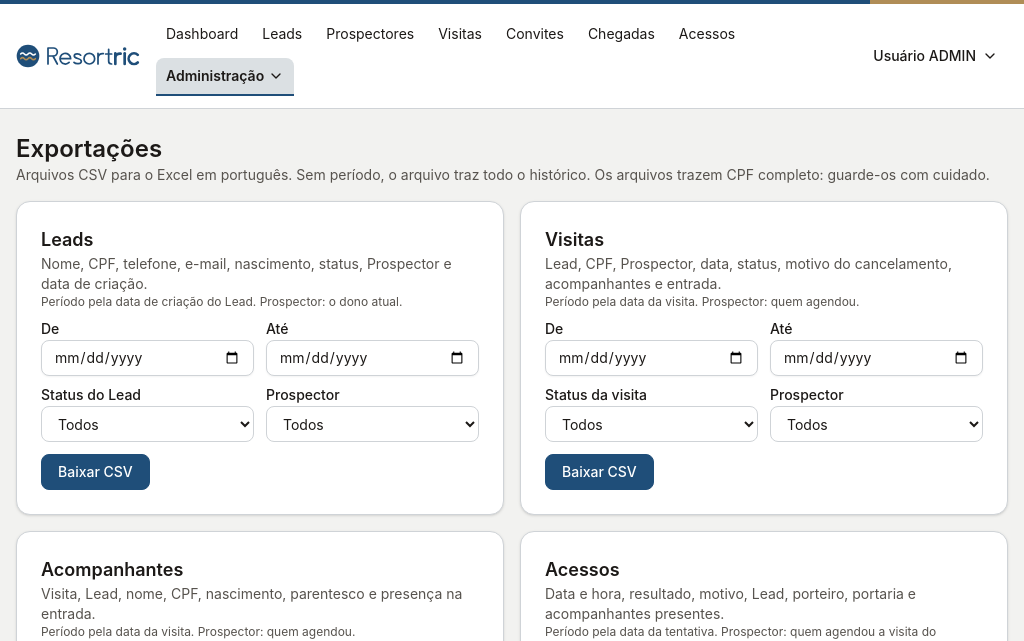
Scenario: XF2 — blocos de exportação › período invertido ou com uma data só é bloqueado, sem pedido
In the 2nd date field labelled "De": (652, 358) [545,340,758,376], type "2026-09-10"
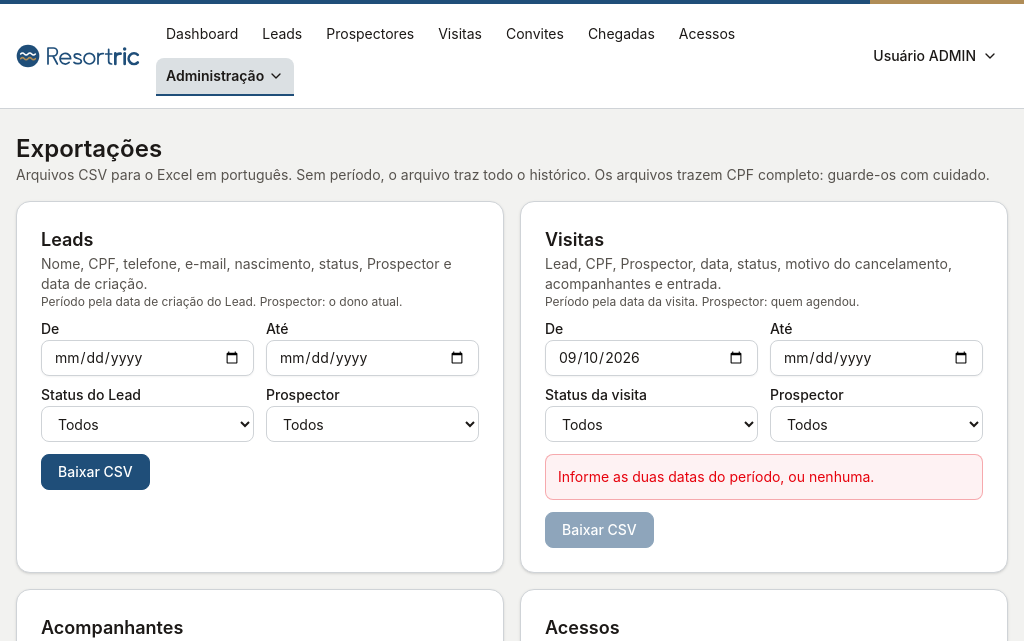
Now the message reads "Informe as duas datas do período, ou nenhuma.", box [558,468,874,485]
Now the 2nd button "Baixar CSV" is disabled, box [545,512,654,548]
In the 2nd date field labelled "Até": (876, 358) [770,340,983,376], type "2026-09-01"
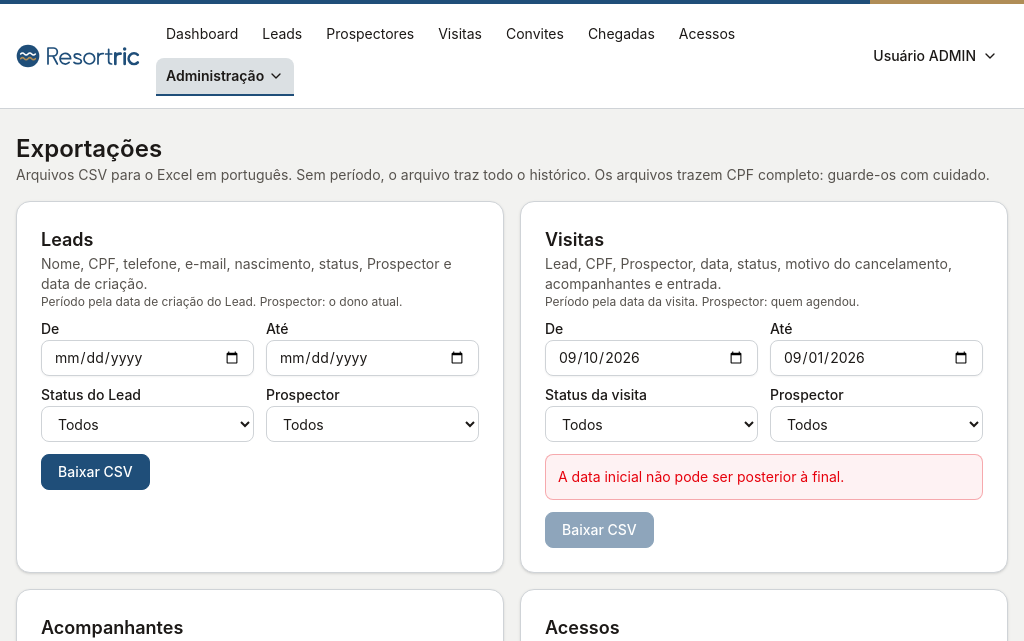
Now the 2nd button "Baixar CSV" is disabled, box [545,512,654,548]
Now the message reads "A data inicial não pode ser posterior à final.", box [558,468,844,485]
